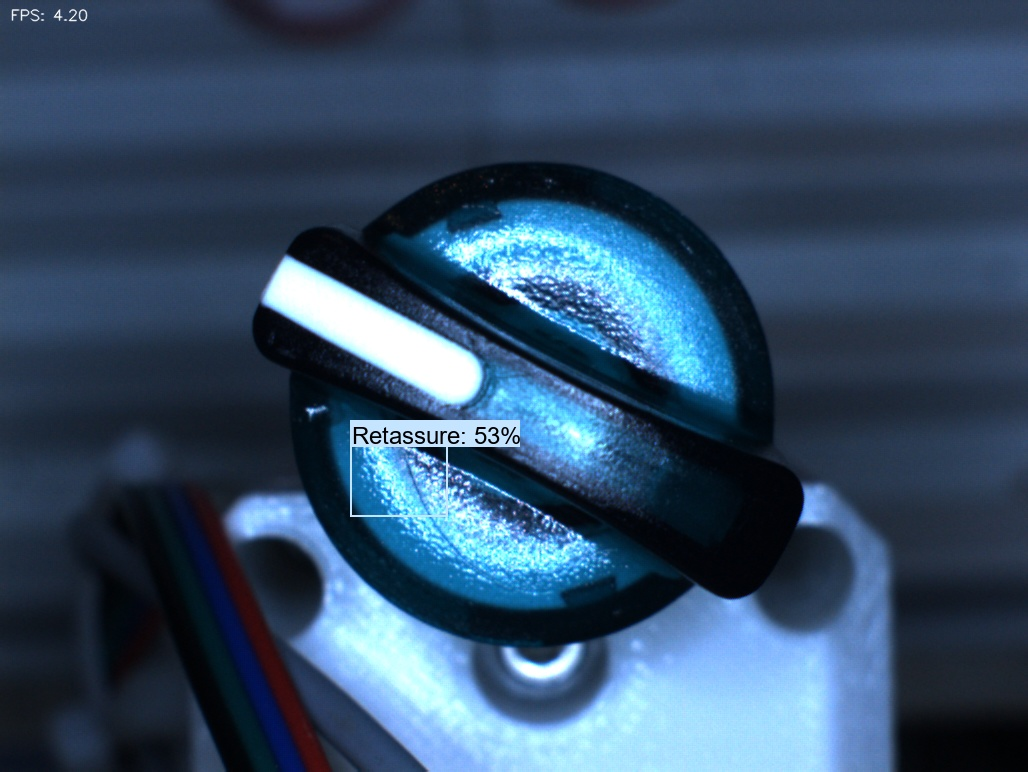Choc: (275, 374, 345, 444)
